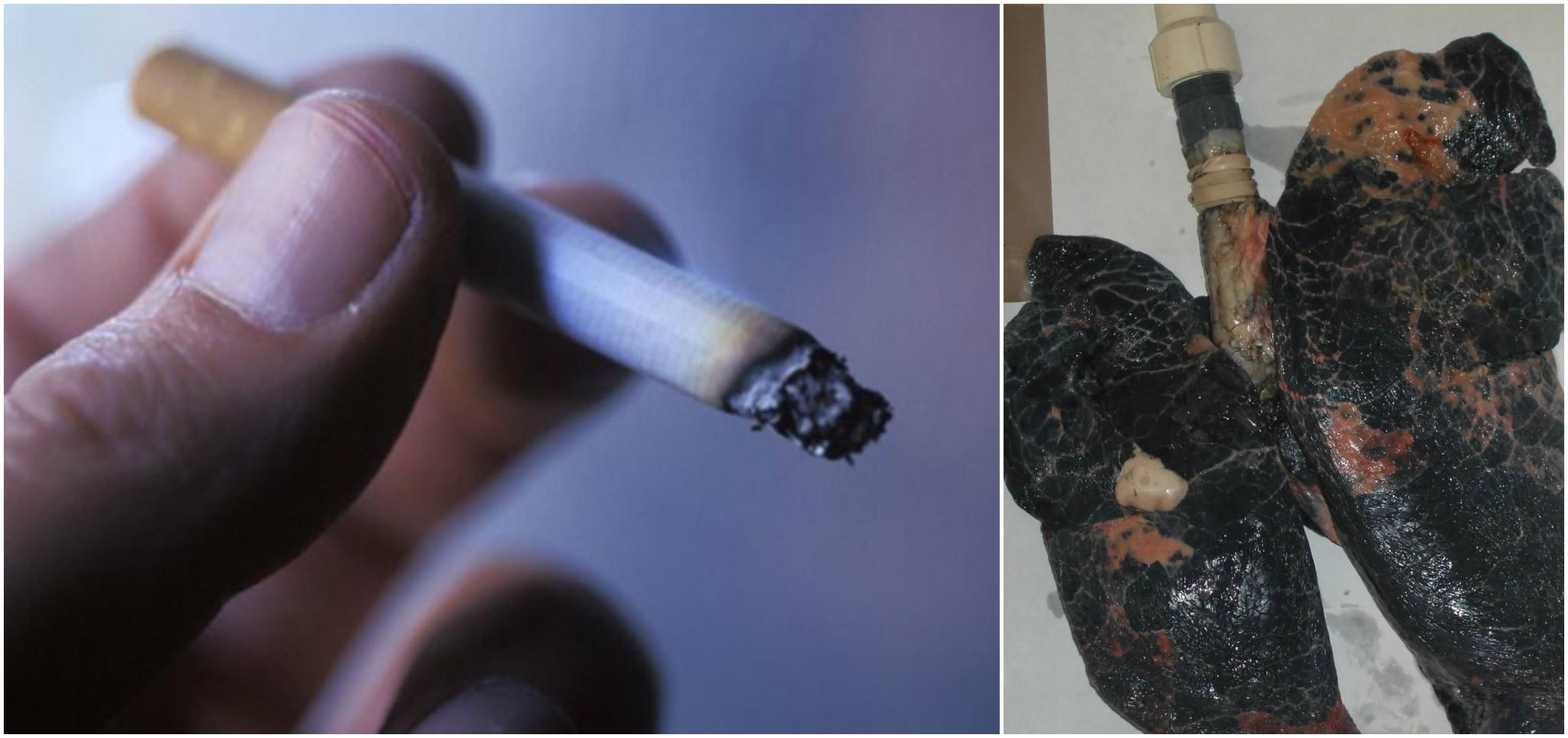cigarette: (454, 163, 890, 458)
